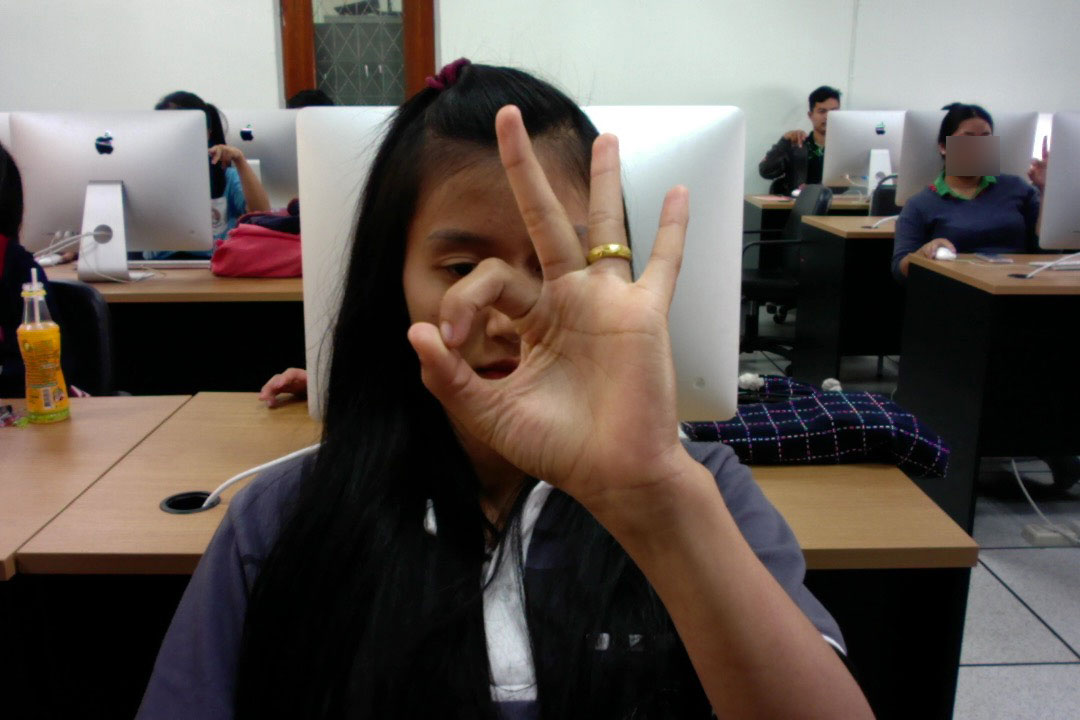for: (385, 95, 707, 503)
